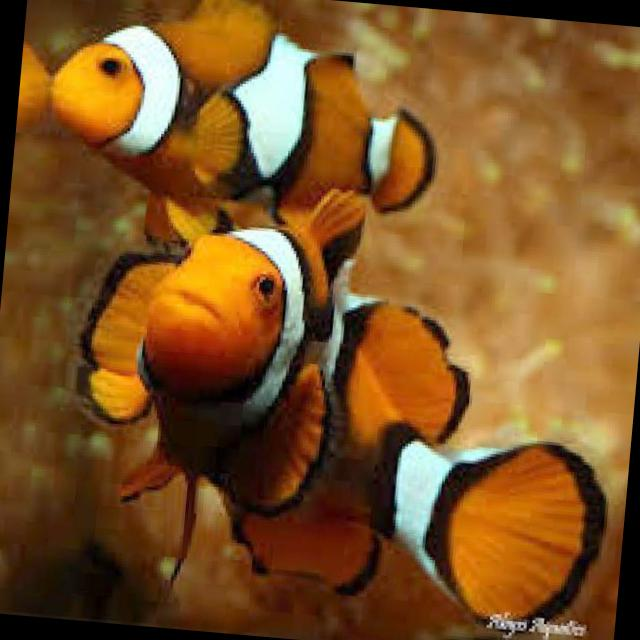ClownFish: (60, 171, 622, 637), (46, 0, 441, 221)
